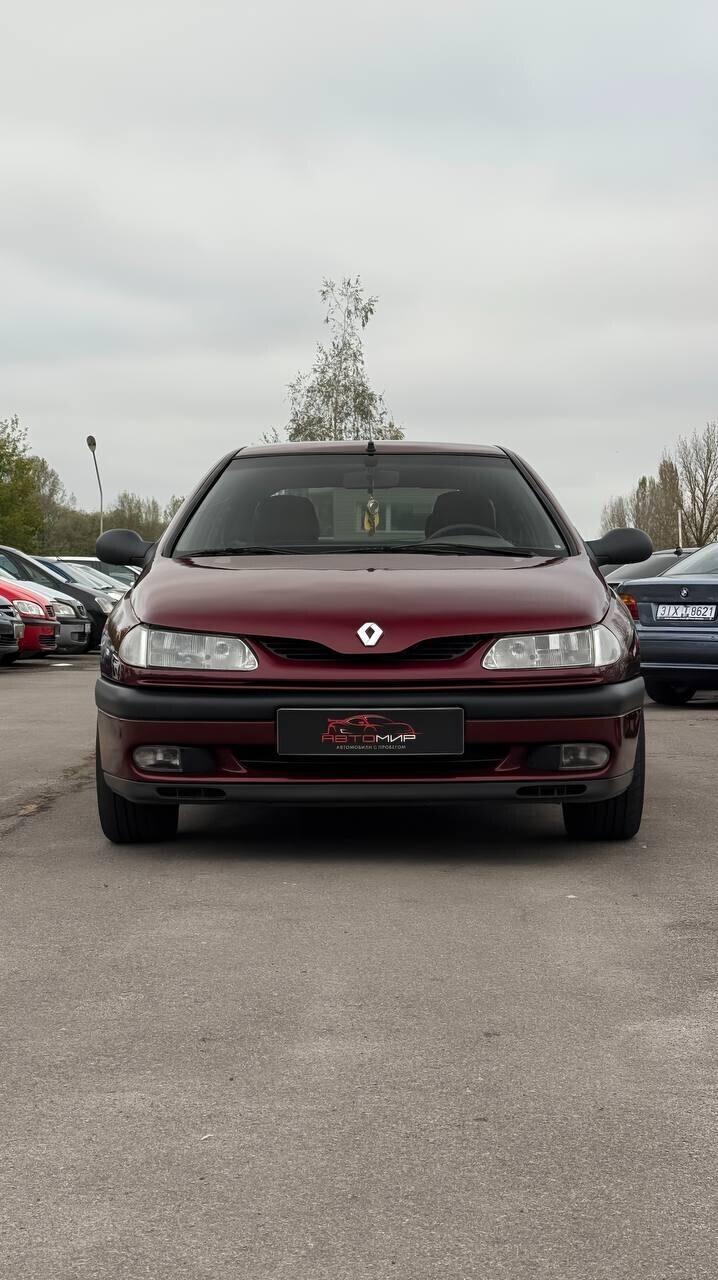Lahuna_1993-1999: (98, 433, 655, 857)
